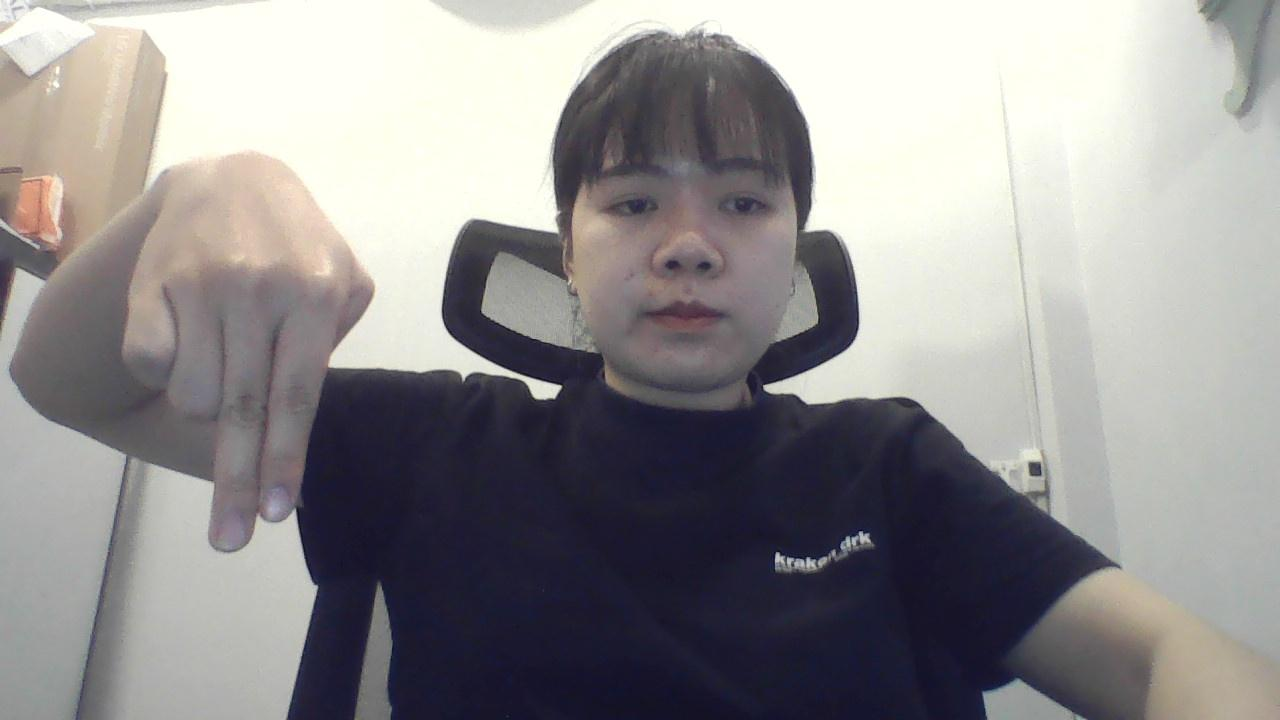N: (110, 175, 399, 564)
